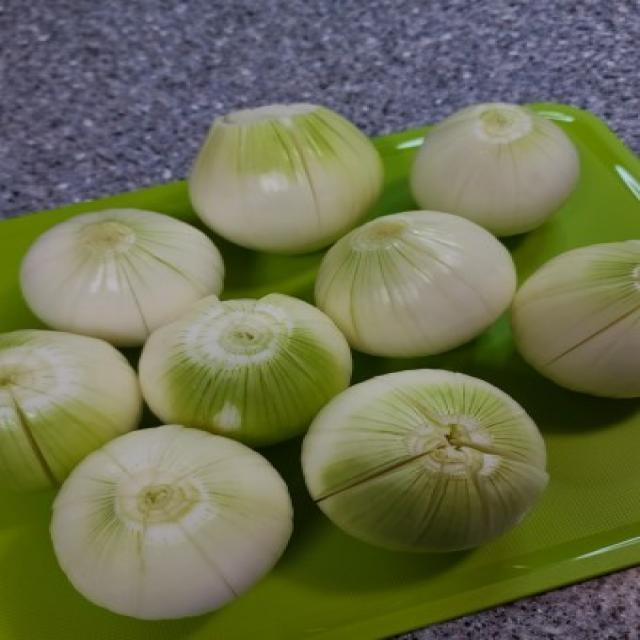onion: (41, 434, 306, 611), (322, 374, 596, 542), (16, 200, 232, 346), (0, 314, 166, 488), (315, 208, 516, 344), (158, 294, 350, 436), (193, 92, 379, 222), (424, 91, 602, 225), (516, 226, 640, 400)
